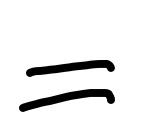eqv: (18, 57, 118, 114)
